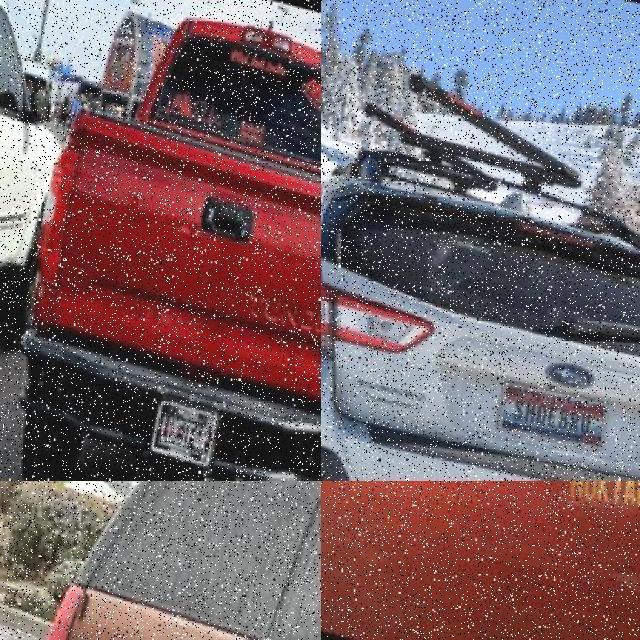licenseplate: (488, 379, 605, 453), (145, 400, 213, 466), (552, 480, 640, 517)
